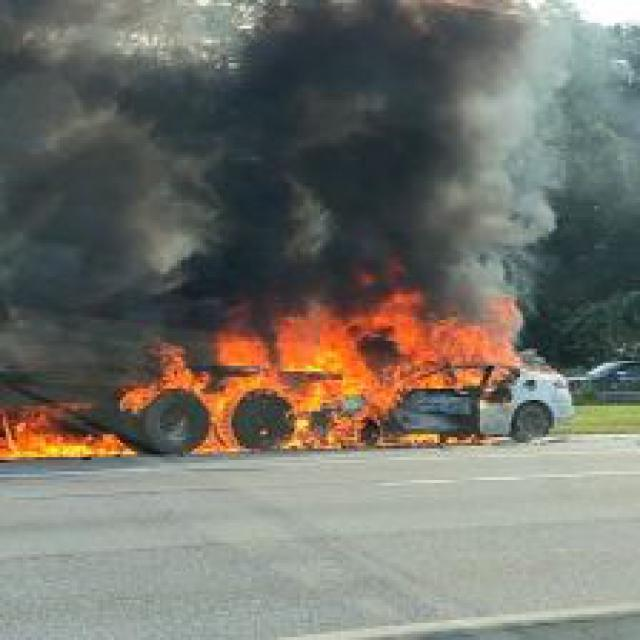fire: (120, 280, 543, 454), (6, 397, 140, 486)
